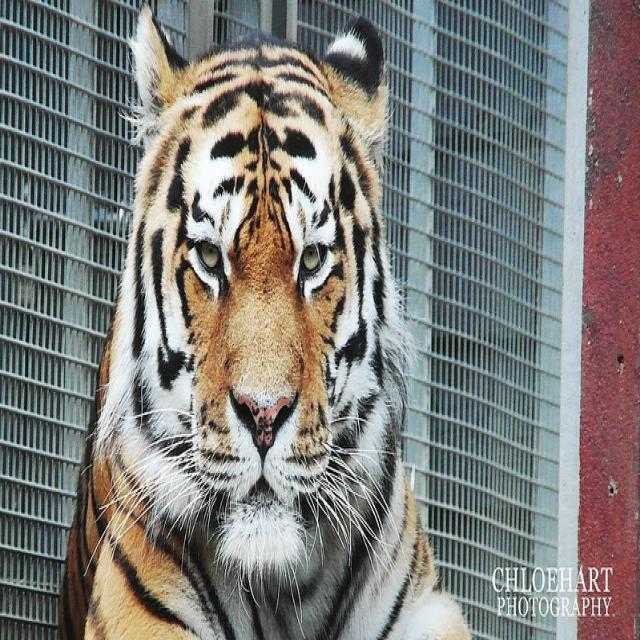Tiger: (59, 0, 473, 633)
